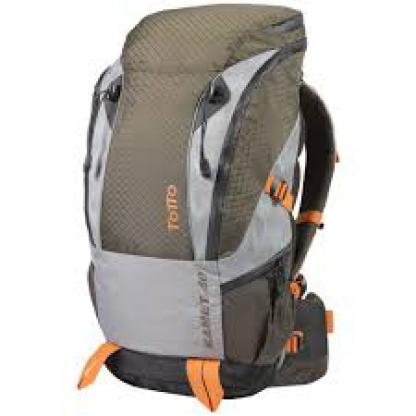morral: (63, 4, 379, 410)
